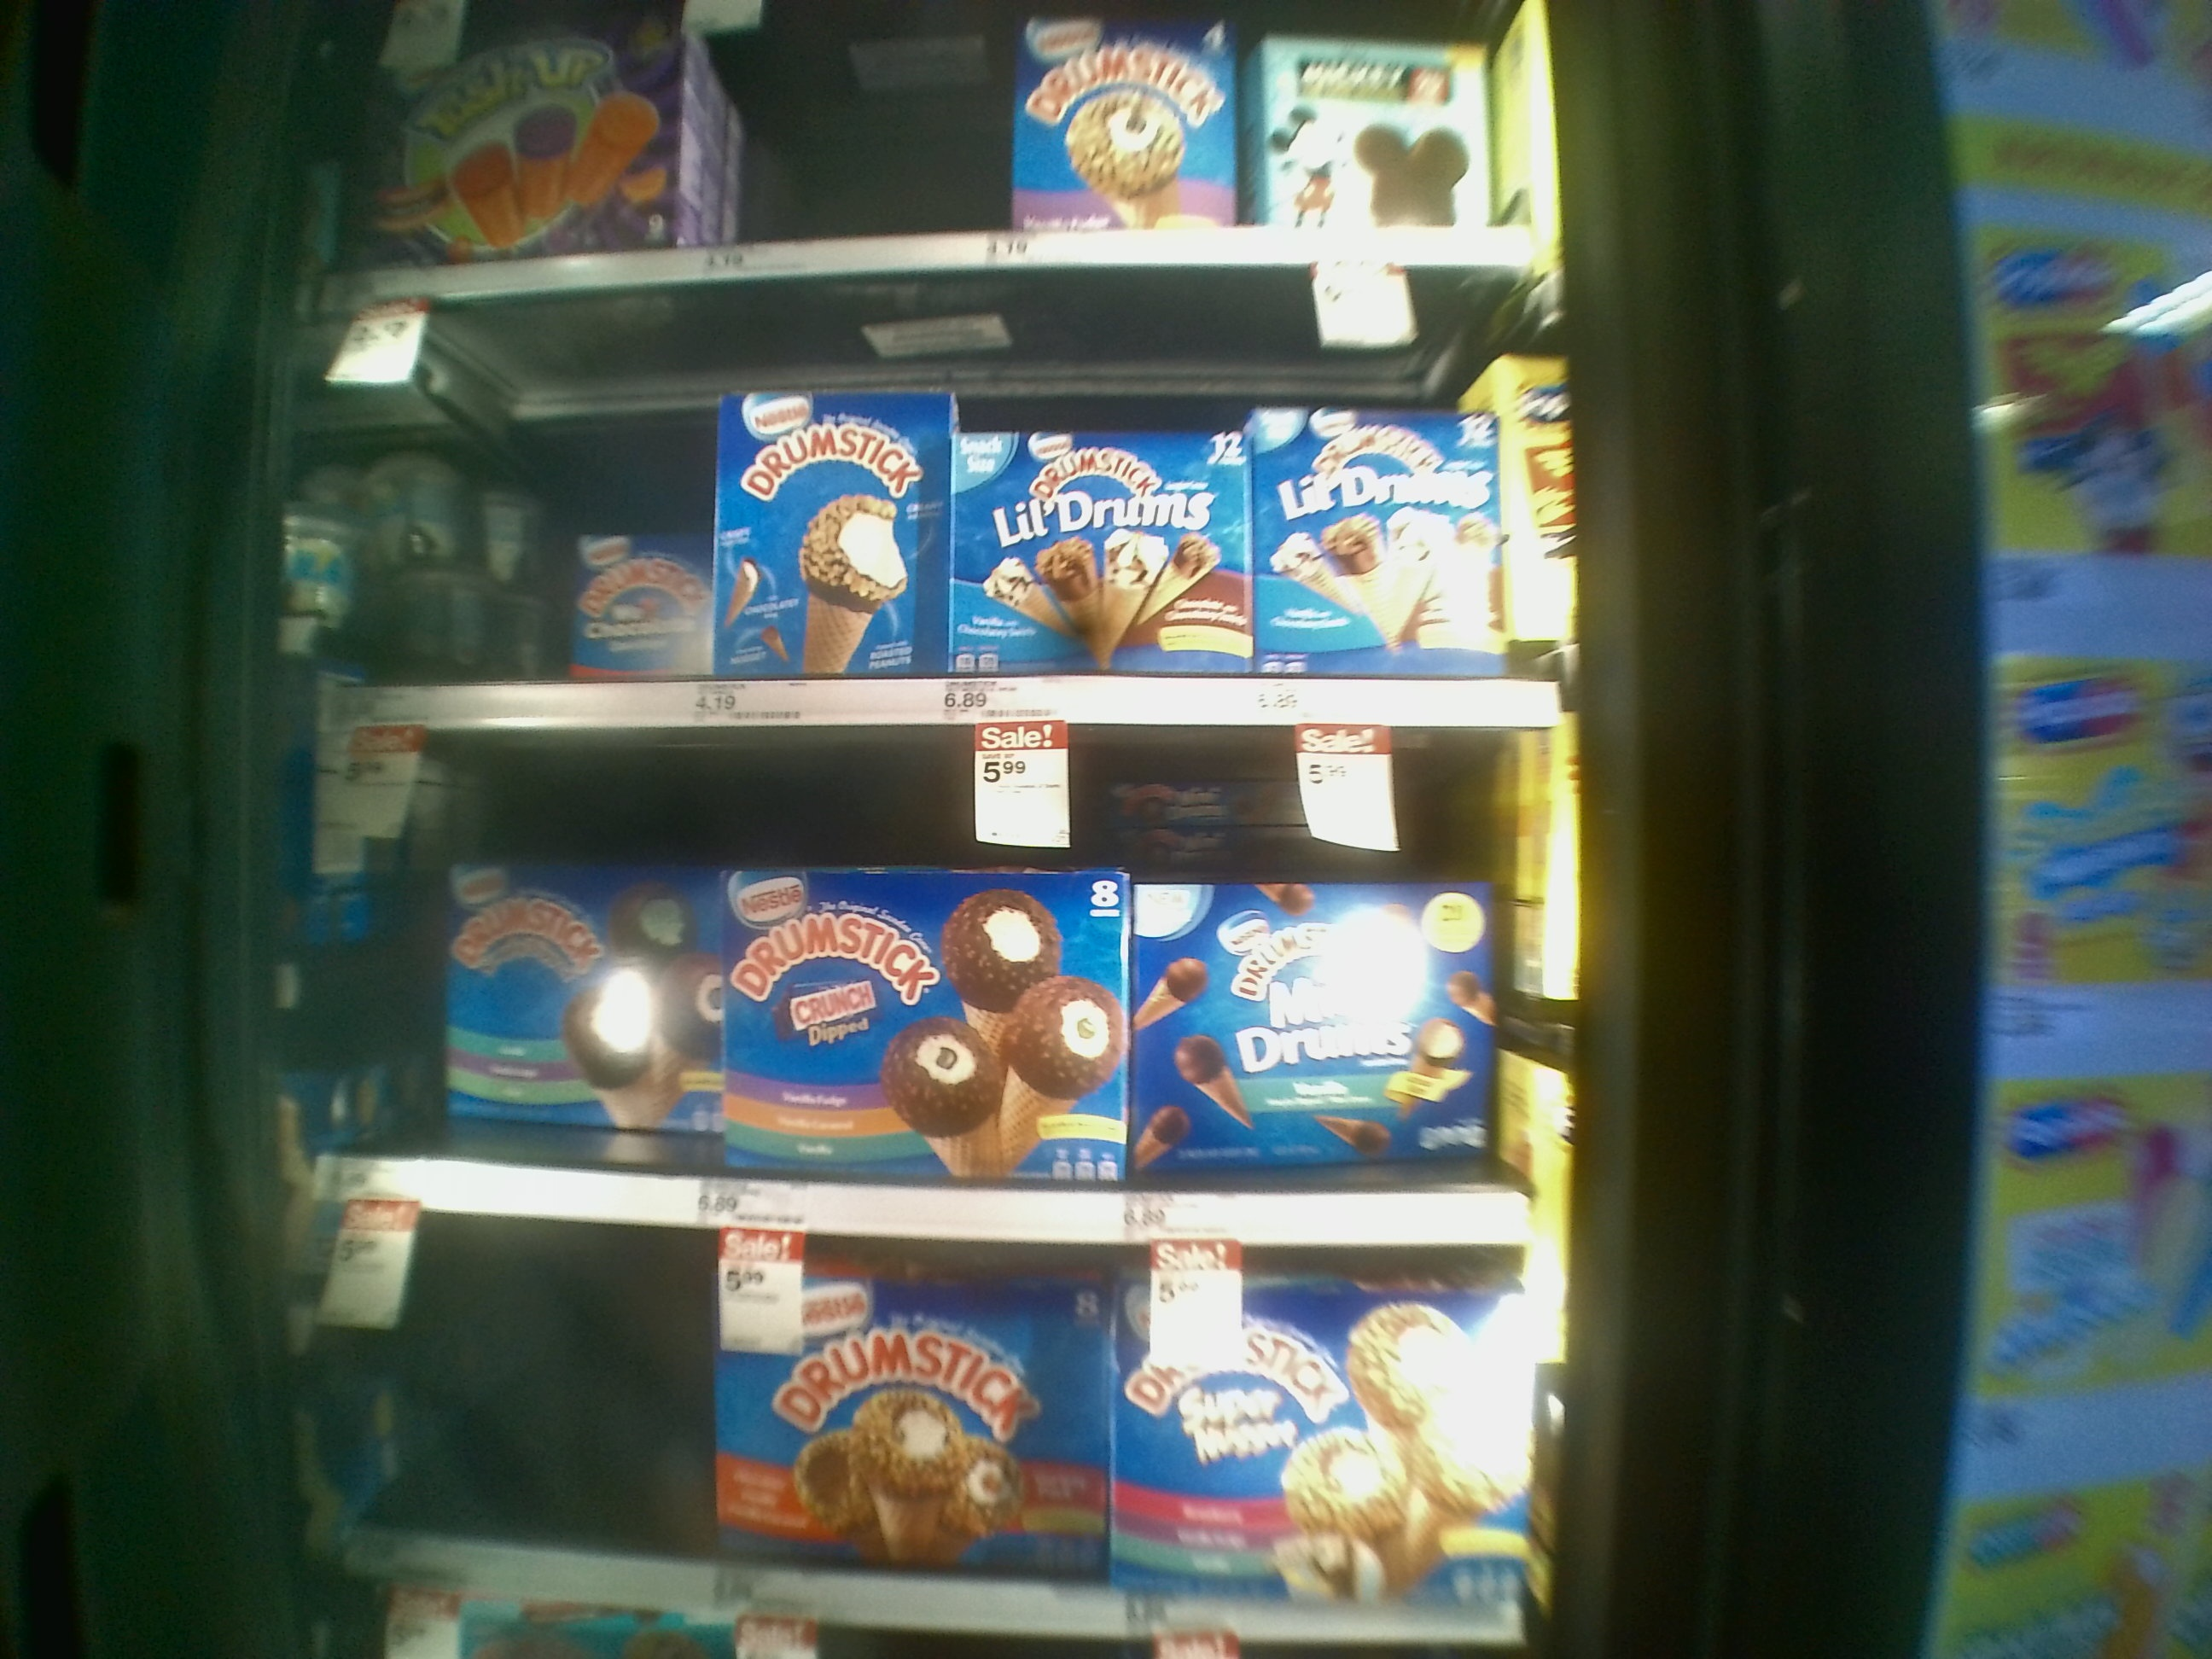shelf: (340, 723, 1550, 1244), (340, 270, 1569, 727)
